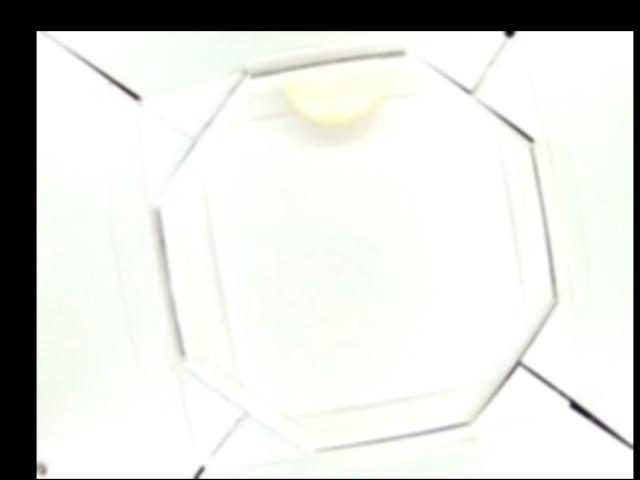Mooli: (279, 58, 384, 125)
